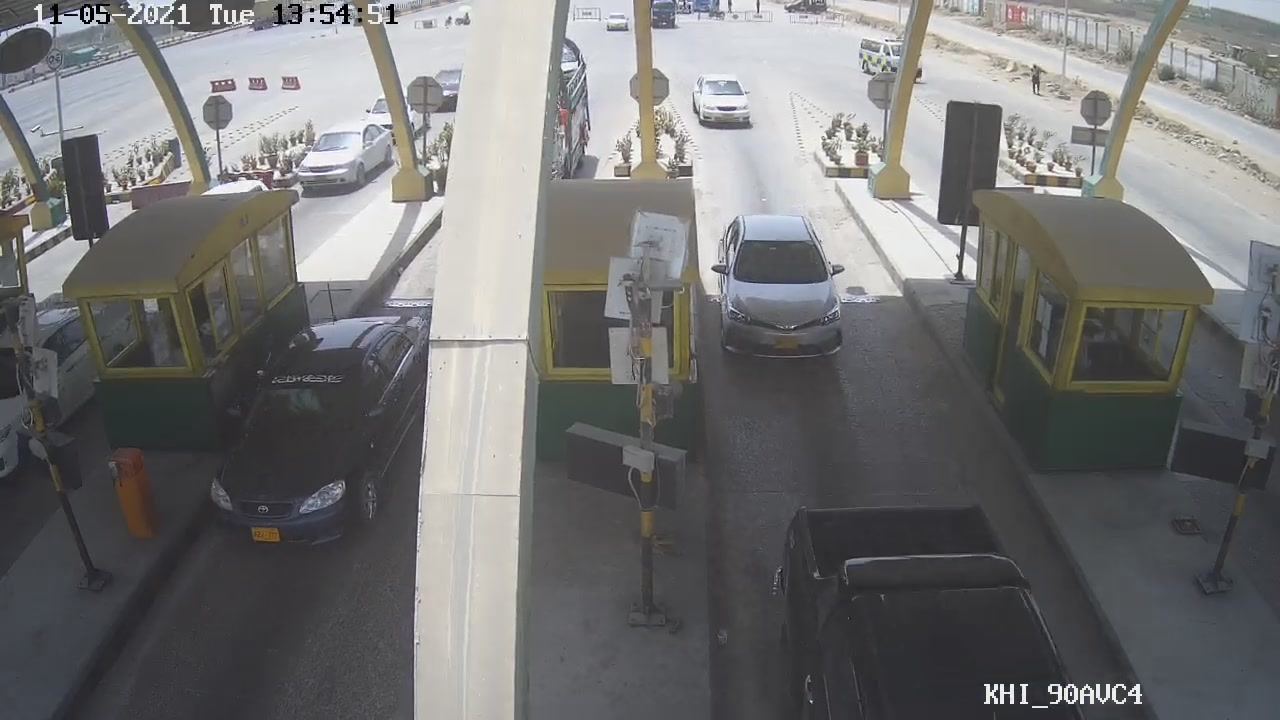F1: (710, 206, 854, 370)
